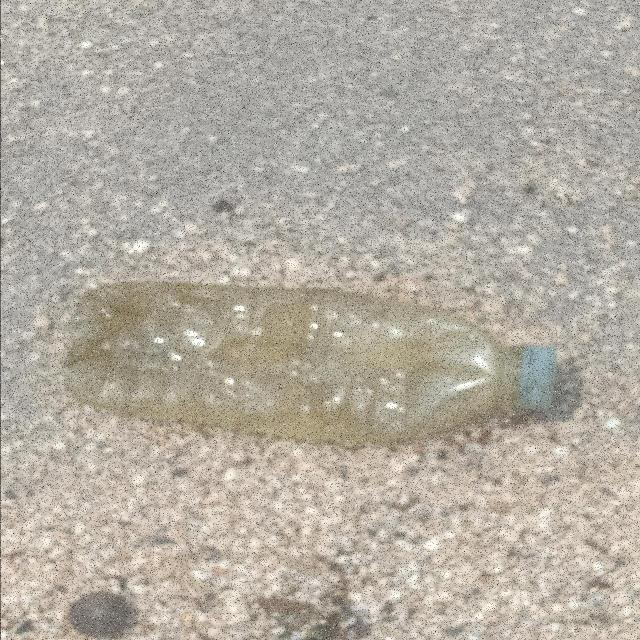plastic_waste: (65, 283, 555, 444)
